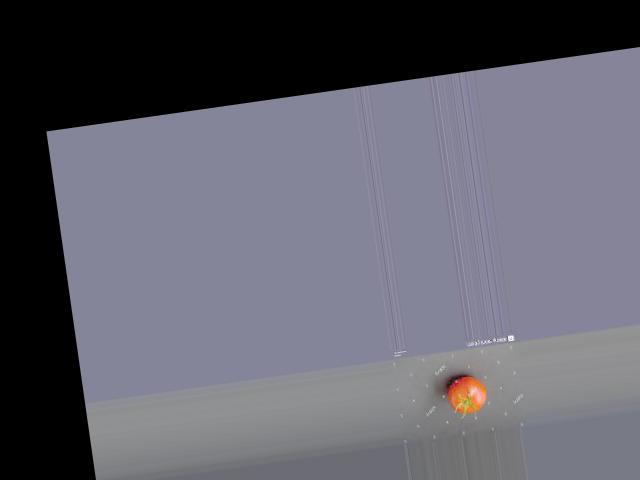tomato: (445, 375, 488, 415)
